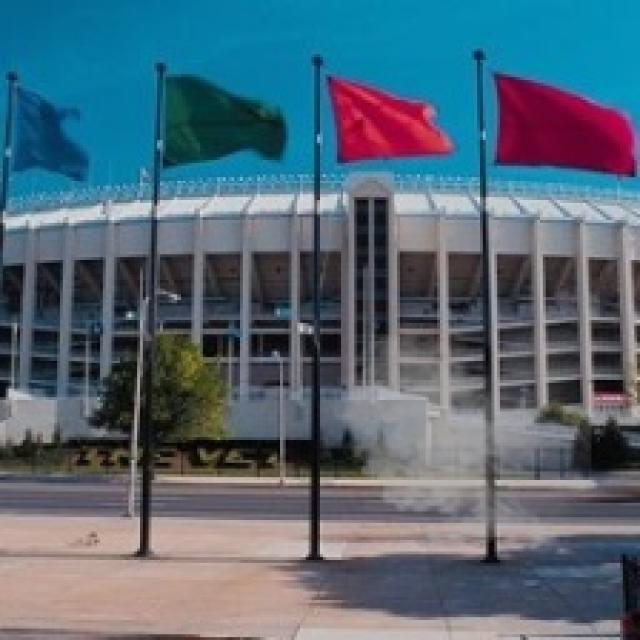smoke: (323, 326, 591, 557)
